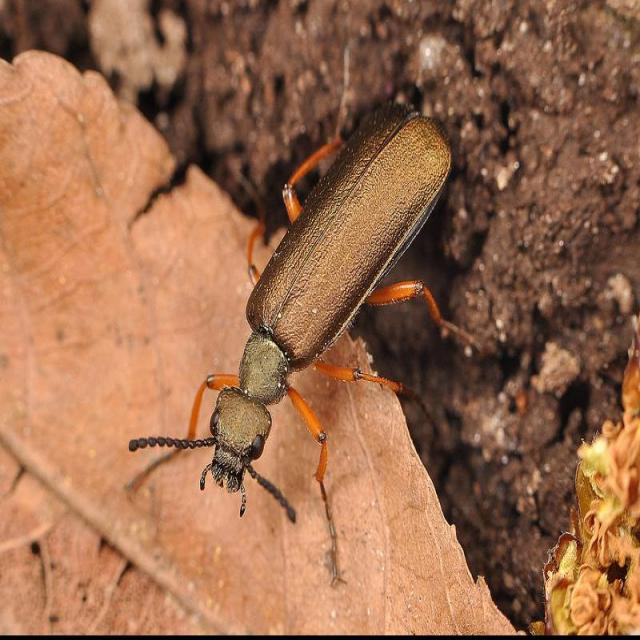BlisterBeetle-Adult-: (137, 91, 454, 521)
